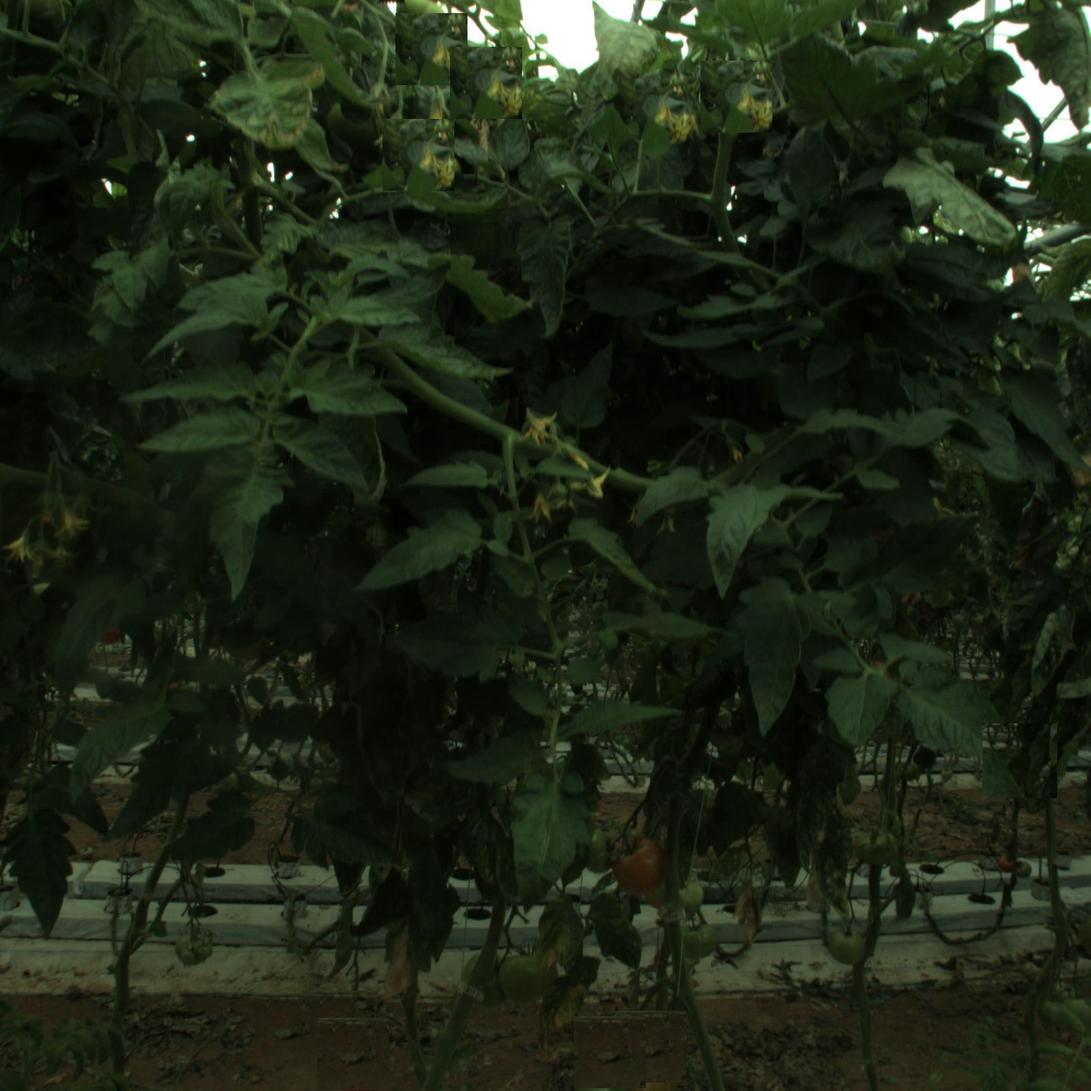fully-ripe: (613, 837, 669, 894)
unripe: (500, 944, 557, 1001), (828, 926, 867, 966), (679, 921, 718, 960)
